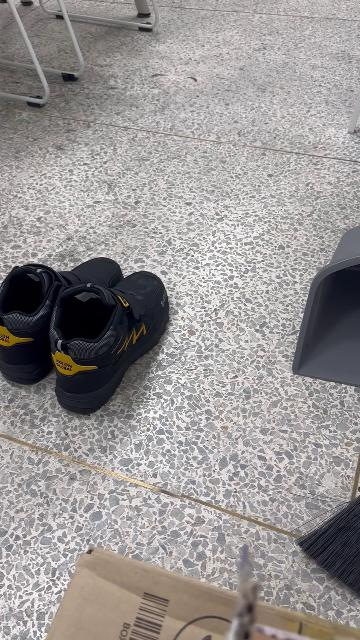shoe_worn: (50, 272, 169, 416), (2, 255, 124, 386)
